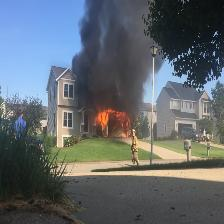fire: (92, 112, 128, 128)
smoke: (90, 1, 144, 101)
